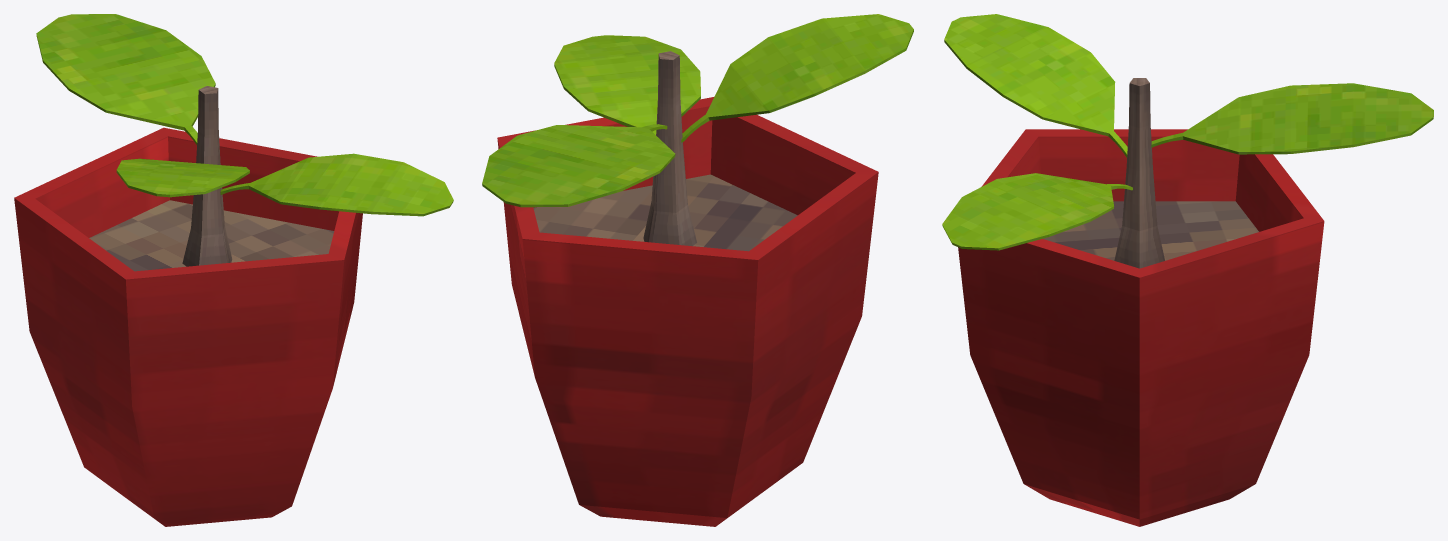
Rendered from SM_PlantPot.fbx.
3 views of the same model, side by side, from view 1: azimuth 30°, elevation 25°; view 2: azimuth 150°, elevation 25°; view 3: azimuth 270°, elevation 25° (orthographic). The views are drawn at different scales.
Parts seen in each view (by area): view 1: SM_PlantPot; view 2: SM_PlantPot; view 3: SM_PlantPot.
Boxes of the visible parts, left/top/right/bottom form: SM_PlantPot: left=14, top=14, right=453, bottom=526; SM_PlantPot: left=482, top=14, right=913, bottom=526; SM_PlantPot: left=942, top=14, right=1433, bottom=526.
Size of the model in its own units: 19.8 by 23.85 by 26.03.
4 materials, 4 textured.
